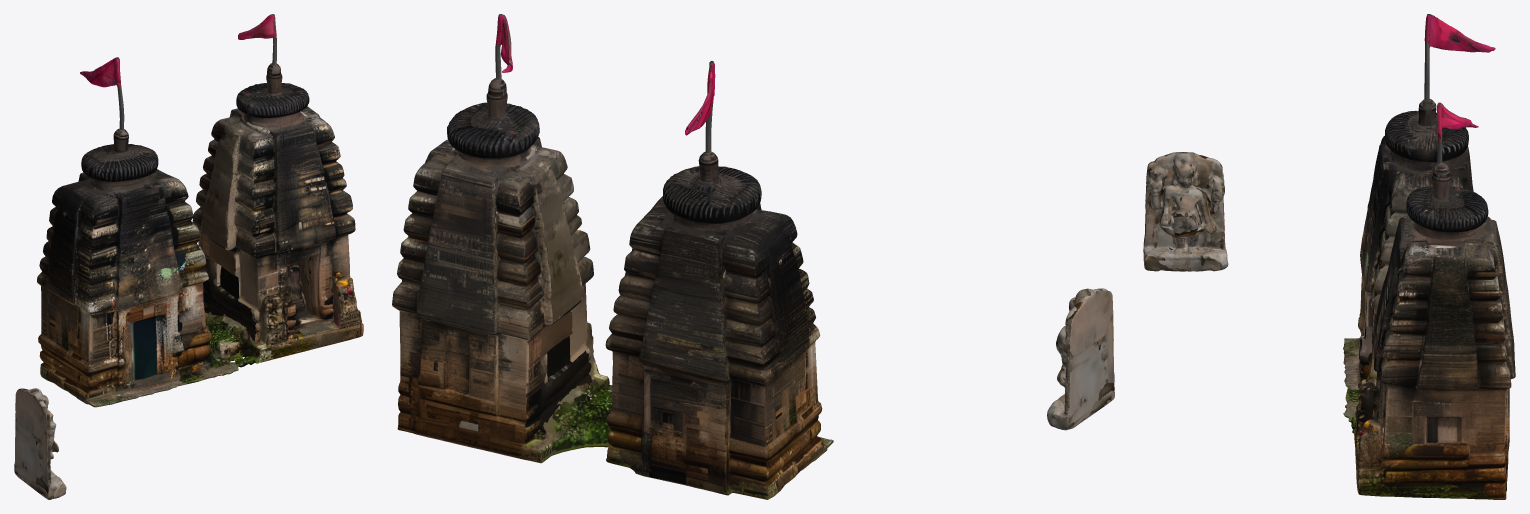
Rendered from site1.gltf.
3 views of the same model, side by side, from view 1: azimuth 30°, elevation 25°; view 2: azimuth 150°, elevation 25°; view 3: azimuth 270°, elevation 25° (orthographic). The views are drawn at different scales.
Visible parts, largest first — view 1: textured_mesh, textured_mesh.001; view 2: textured_mesh, textured_mesh.001; view 3: textured_mesh, textured_mesh.001.
Part boxes in pixels (x1,y1,x2,y2): textured_mesh: (37, 14, 363, 407); textured_mesh.001: (14, 388, 66, 499); textured_mesh: (392, 14, 833, 499); textured_mesh.001: (1047, 288, 1114, 430); textured_mesh: (1343, 14, 1515, 499); textured_mesh.001: (1143, 152, 1228, 271).
Bounding box in the file's own units: 5.96 × 4.36 × 4.
